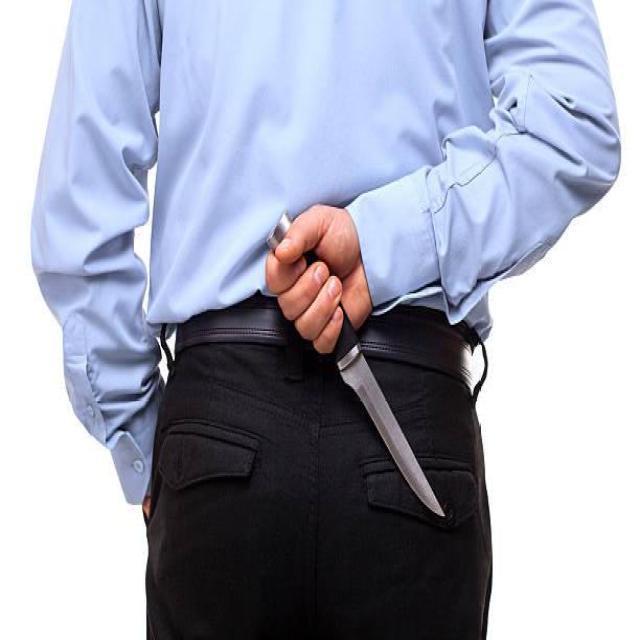faca: (268, 171, 461, 534)
